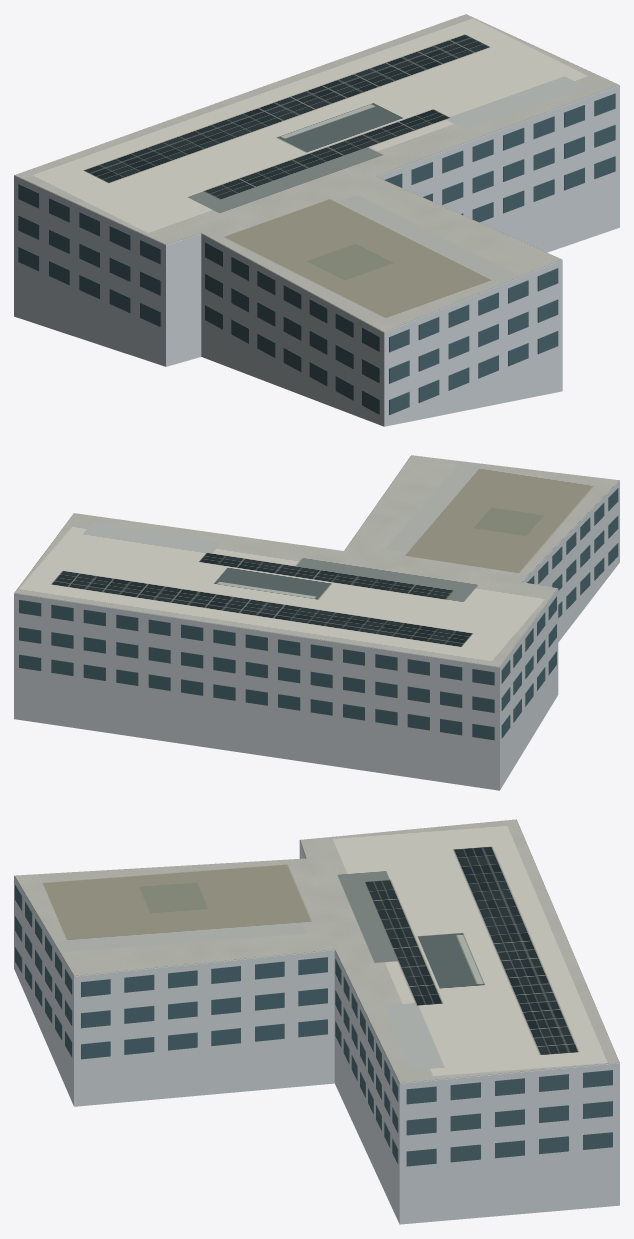
The model's file is intact.glb.
The picture shows the model from 3 angles, top to bottom: view 1: azimuth 30°, elevation 25°; view 2: azimuth 150°, elevation 25°; view 3: azimuth 270°, elevation 25°; orthographic projection. The views are drawn at different scales.
Parts seen in each view (by area): view 1: SM_agri_Intact_00, SM_agri_Intact_01; view 2: SM_agri_Intact_00, SM_agri_Intact_01; view 3: SM_agri_Intact_00, SM_agri_Intact_01.
Part boxes in pixels (<box>): SM_agri_Intact_00: <box>14,14,619,426</box>; SM_agri_Intact_01: <box>18,93,615,414</box>; SM_agri_Intact_00: <box>14,455,619,790</box>; SM_agri_Intact_01: <box>19,488,618,740</box>; SM_agri_Intact_00: <box>14,819,619,1224</box>; SM_agri_Intact_01: <box>15,884,612,1166</box>.
Size of the model in its own units: 2.2 by 0.5548 by 2.13.
Materials: 4 (1 with a texture image).
